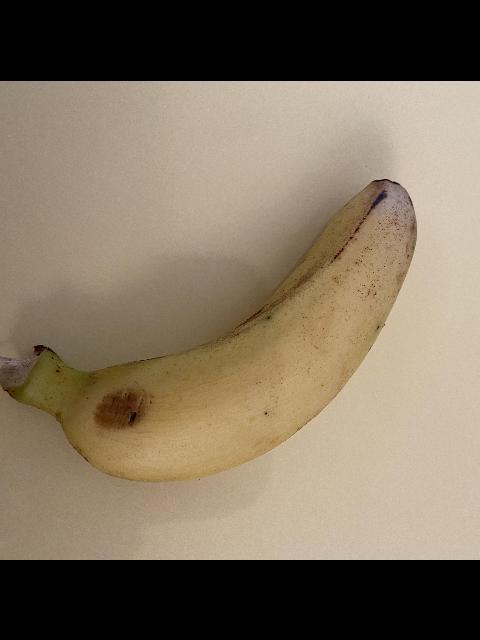banana: (0, 177, 418, 483)
